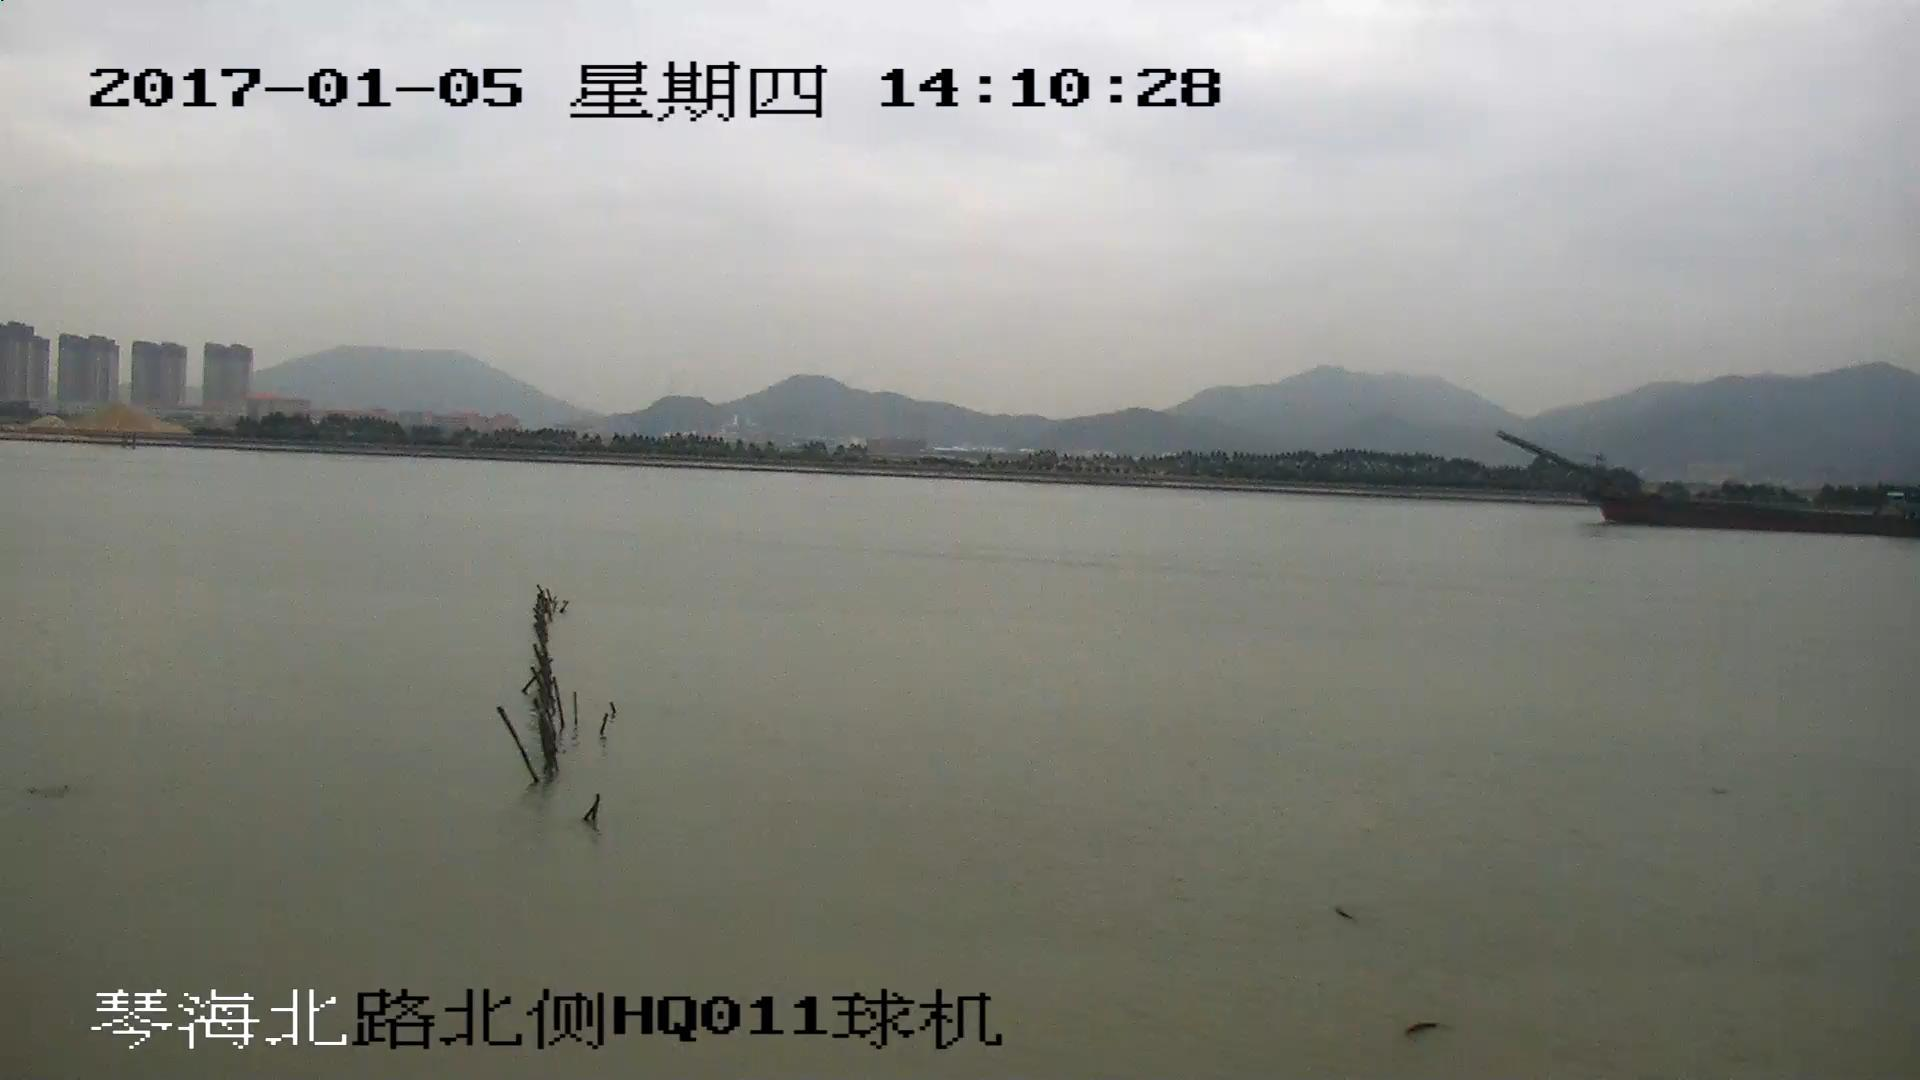Ship: (1501, 433, 1920, 538)
